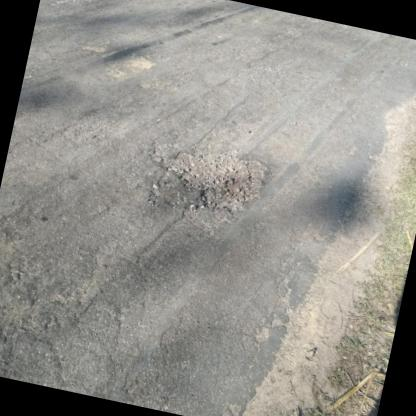pothole: (141, 132, 276, 222)
